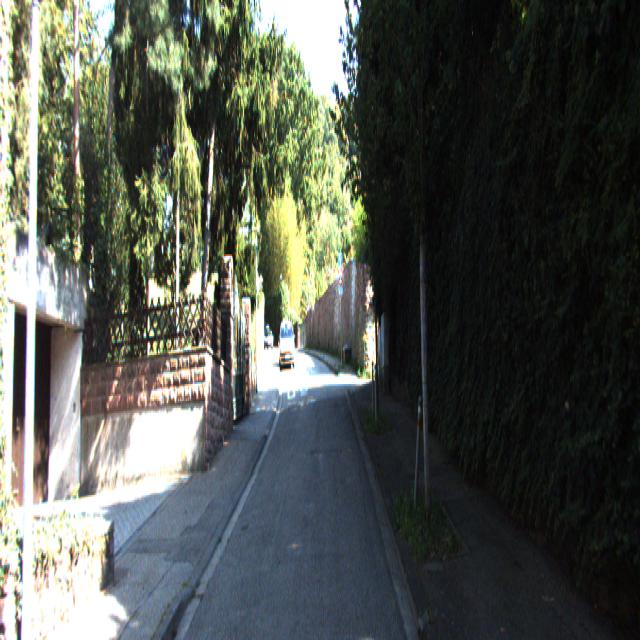Car: (280, 321, 296, 374)
